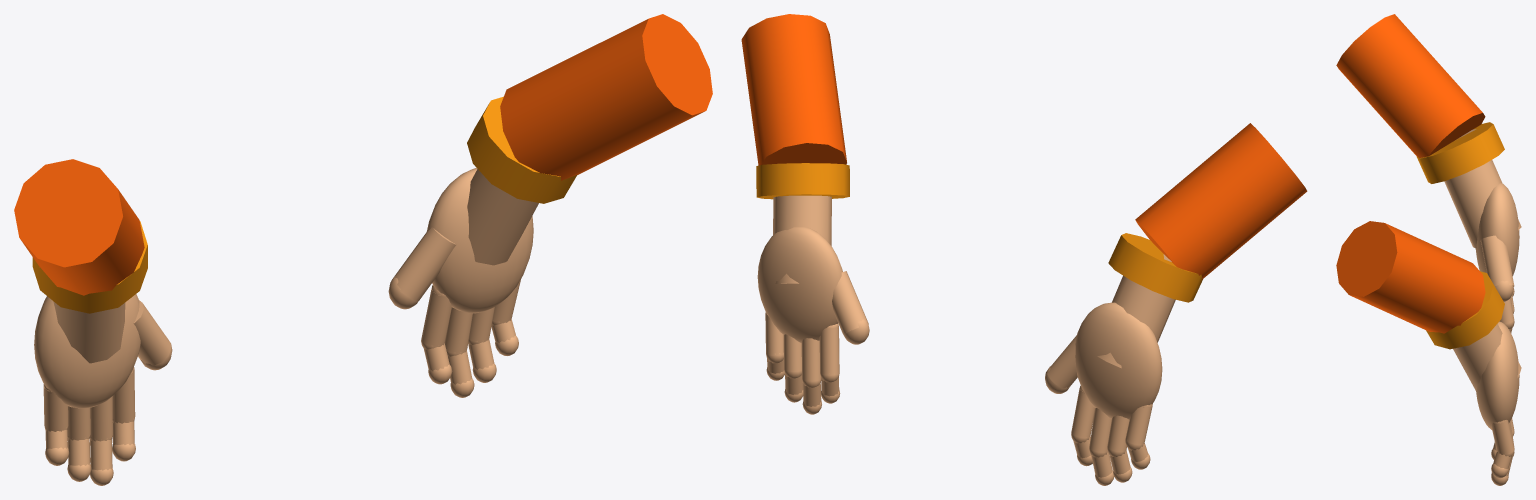
The model's file is FirstPersonHands.fbx.
3 views of the same model, side by side, from view 1: azimuth 30°, elevation 25°; view 2: azimuth 150°, elevation 25°; view 3: azimuth 270°, elevation 25° (orthographic). The views are drawn at different scales.
Visible parts, largest first — view 1: Orange sleeve.001, Orange sleeve, Relaxed hand palm.001, Relaxed hand palm, Ribbed sleeve cuff.001, Visible wrist.001, Visible wrist, Ribbed sleeve cuff, Thumb.001, Thumb, Finger proximal.004, Finger proximal.005 (+4 smaller); view 2: Orange sleeve, Orange sleeve.001, Relaxed hand palm, Relaxed hand palm.001, Ribbed sleeve cuff, Ribbed sleeve cuff.001, Visible wrist.001, Visible wrist, Thumb.001, Finger proximal.004, Thumb, Finger proximal (+5 smaller); view 3: Orange sleeve.001, Orange sleeve, Relaxed hand palm.001, Ribbed sleeve cuff, Visible wrist, Relaxed hand palm, Ribbed sleeve cuff.001, Visible wrist.001, Thumb, Finger proximal.007, Thumb tip, Finger proximal (+1 smaller).
Boxes of the visible parts, x1,y1,x2,y2 form: Orange sleeve.001: (500,14,712,180); Orange sleeve: (14,159,144,295); Relaxed hand palm.001: (426,168,533,313); Relaxed hand palm: (34,294,140,408); Ribbed sleeve cuff.001: (467,96,577,203); Visible wrist.001: (467,169,538,265); Visible wrist: (53,301,125,363); Ribbed sleeve cuff: (32,221,147,313); Thumb.001: (392,227,455,300); Thumb: (133,300,171,365); Finger proximal.004: (421,289,451,346); Finger proximal.005: (445,307,472,353); Orange sleeve: (1135,123,1307,279); Orange sleeve.001: (741,14,846,165); Relaxed hand palm: (1075,302,1162,419); Relaxed hand palm.001: (757,227,842,342); Ribbed sleeve cuff: (1108,233,1202,302); Ribbed sleeve cuff.001: (756,163,849,199); Visible wrist.001: (773,195,831,283); Visible wrist: (1097,254,1175,368); Thumb.001: (832,271,868,334); Finger proximal.004: (819,327,839,375); Thumb: (1047,335,1077,388); Finger proximal: (1071,388,1094,437); Orange sleeve.001: (1336,221,1485,333); Orange sleeve: (1336,14,1485,157); Relaxed hand palm.001: (1476,321,1519,429); Ribbed sleeve cuff: (1417,122,1504,183); Visible wrist: (1444,129,1521,248); Relaxed hand palm: (1475,183,1519,275); Ribbed sleeve cuff.001: (1426,271,1504,349); Visible wrist.001: (1453,324,1521,390); Thumb: (1480,235,1514,286); Finger proximal.007: (1491,420,1514,454); Thumb tip: (1495,280,1513,301); Finger proximal: (1499,298,1514,324).
Bounding box in the file's own units: 152 × 86.16 × 48.28.
